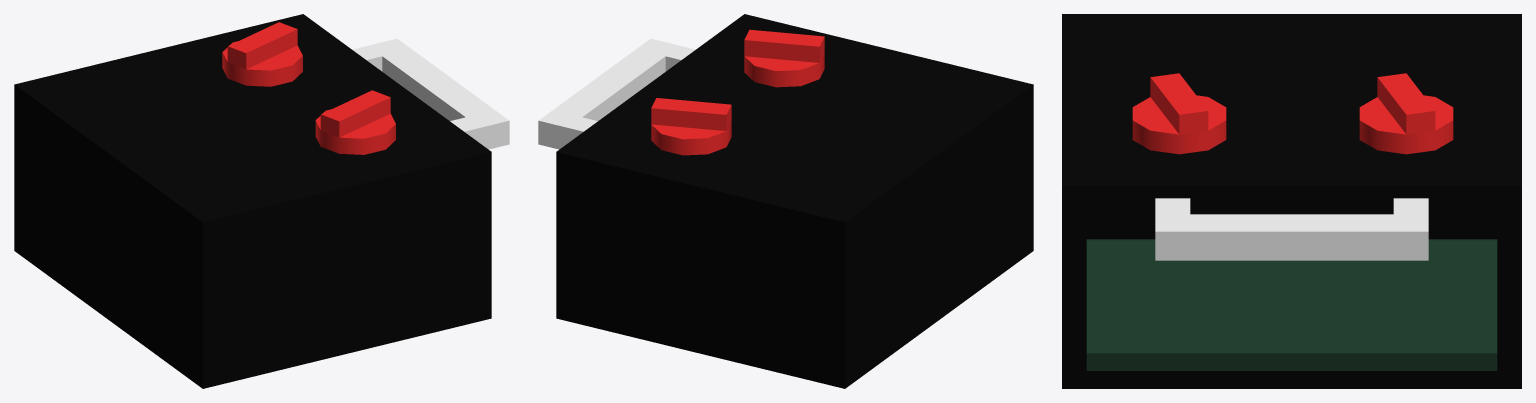
The model's file is oven.FBX.
3 renders of one model, left to right at view 1: azimuth 30°, elevation 25°; view 2: azimuth 150°, elevation 25°; view 3: azimuth 270°, elevation 25°, orthographic. The views are drawn at different scales.
Parts seen in each view (by area): view 1: Box1147; view 2: Box1147; view 3: Box1147.
Part boxes in pixels (x1,y1,x2,y2): Box1147: (14, 14, 509, 388); Box1147: (538, 14, 1033, 388); Box1147: (1062, 14, 1521, 388).
Size of the model in its own units: 2.23 by 1.23 by 2.11.
